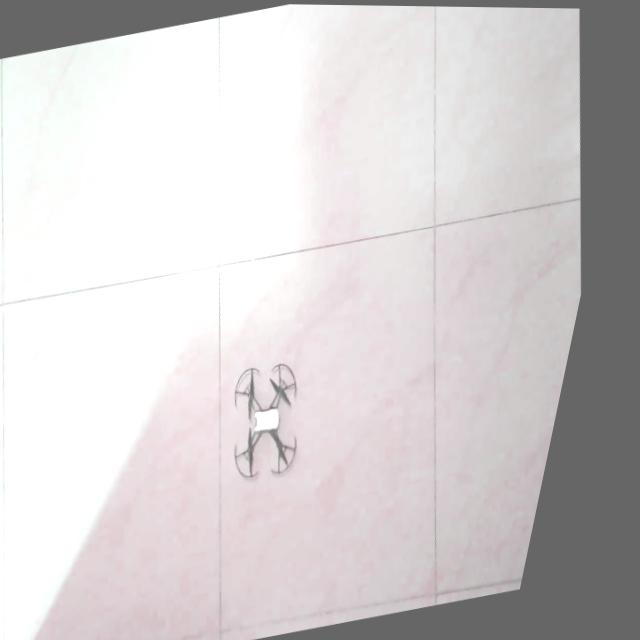drone: (250, 361, 316, 478)
